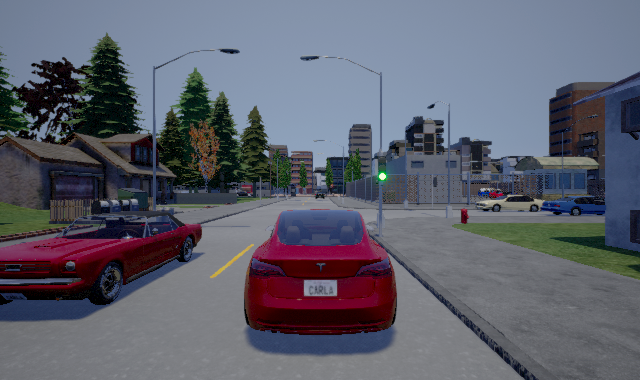traffic_light: (378, 151, 386, 186)
vehicle: (244, 209, 397, 335), (1, 211, 202, 305), (474, 188, 547, 213), (544, 193, 605, 220)
